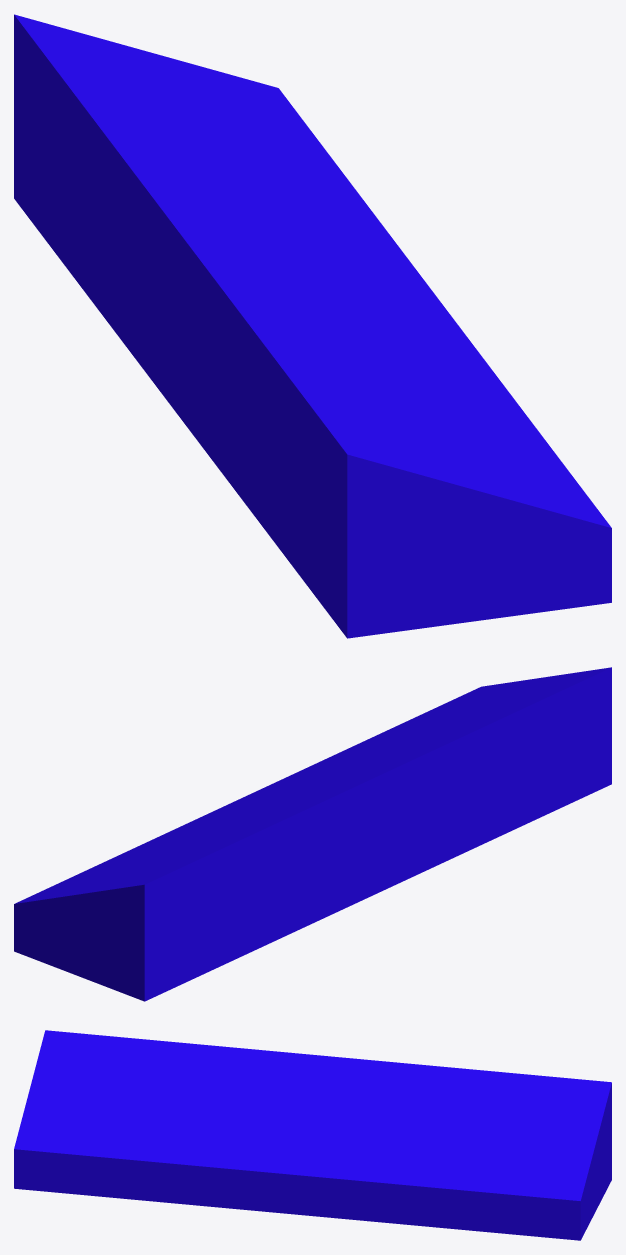
The model's file is canopy_02.fbx.
3 renders of one model, top to bottom at view 1: azimuth 30°, elevation 25°; view 2: azimuth 150°, elevation 25°; view 3: azimuth 270°, elevation 25°, orthographic. The views are drawn at different scales.
Visible parts, largest first — view 1: BUMBLETONSCanopy_LOD0; view 2: BUMBLETONSCanopy_LOD0; view 3: BUMBLETONSCanopy_LOD0.
Boxes of the visible parts, bbox=[...] form: BUMBLETONSCanopy_LOD0: bbox=[14, 14, 611, 638]; BUMBLETONSCanopy_LOD0: bbox=[14, 667, 611, 1001]; BUMBLETONSCanopy_LOD0: bbox=[14, 1030, 611, 1240].
Size of what is drawn, in the model's own units: 362 by 146 by 811.
